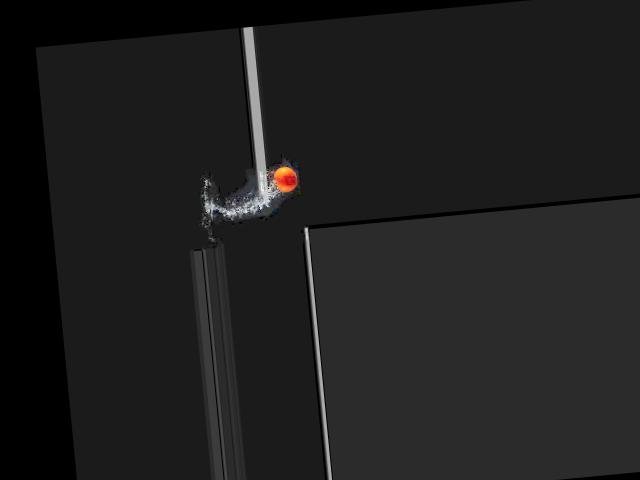tomato: (272, 165, 297, 192)
